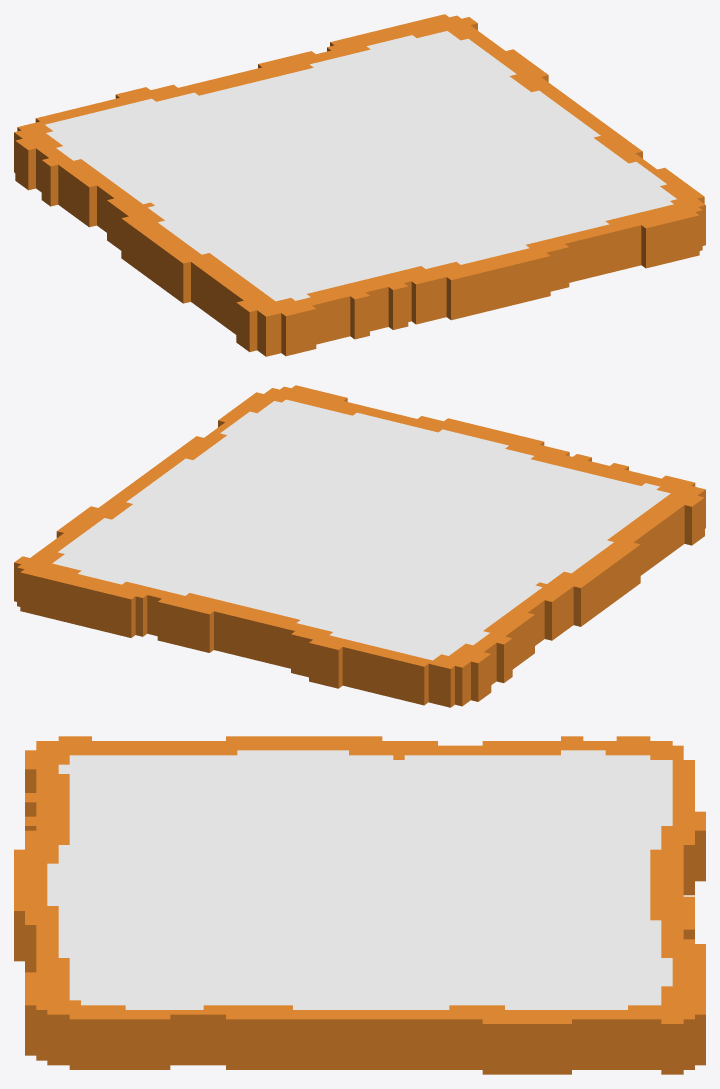
File: bread-plain.obj
3 views of the same model, one above another, from view 1: azimuth 30°, elevation 25°; view 2: azimuth 150°, elevation 25°; view 3: azimuth 270°, elevation 25° (orthographic). The views are drawn at different scales.
Bounding box in the file's own units: 61 × 5 × 62.
Materials: 1 (1 with a texture image).
